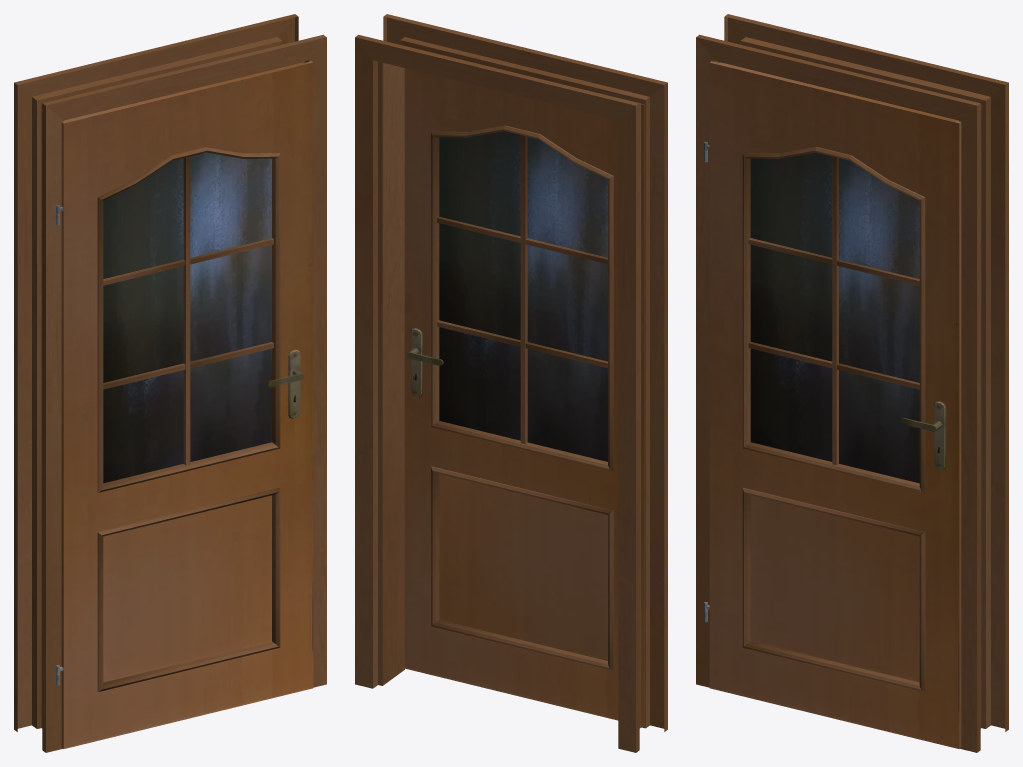
File: porta.glb
3 views of the same model, side by side, from view 1: azimuth 30°, elevation 25°; view 2: azimuth 150°, elevation 25°; view 3: azimuth 330°, elevation 25° (orthographic).
Parts seen in each view (by area): view 1: Porta_Anta, Porta_Telaio; view 2: Porta_Anta, Porta_Telaio; view 3: Porta_Anta, Porta_Telaio.
Part boxes in pixels (x1,y1,x2,y2): Porta_Anta: [56, 61, 313, 748]; Porta_Telaio: [14, 14, 326, 752]; Porta_Anta: [404, 68, 644, 726]; Porta_Telaio: [355, 14, 667, 752]; Porta_Anta: [704, 61, 961, 748]; Porta_Telaio: [696, 14, 1008, 752].
Size of the model in its own units: 0.9449 by 2.08 by 0.2387.
Materials: 2 (2 with a texture image).
